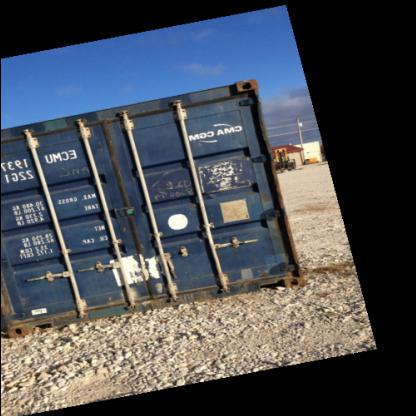Damage: (1, 280, 44, 337), (223, 80, 268, 130), (124, 254, 172, 298), (144, 165, 194, 205), (196, 159, 252, 191), (254, 247, 296, 280)
